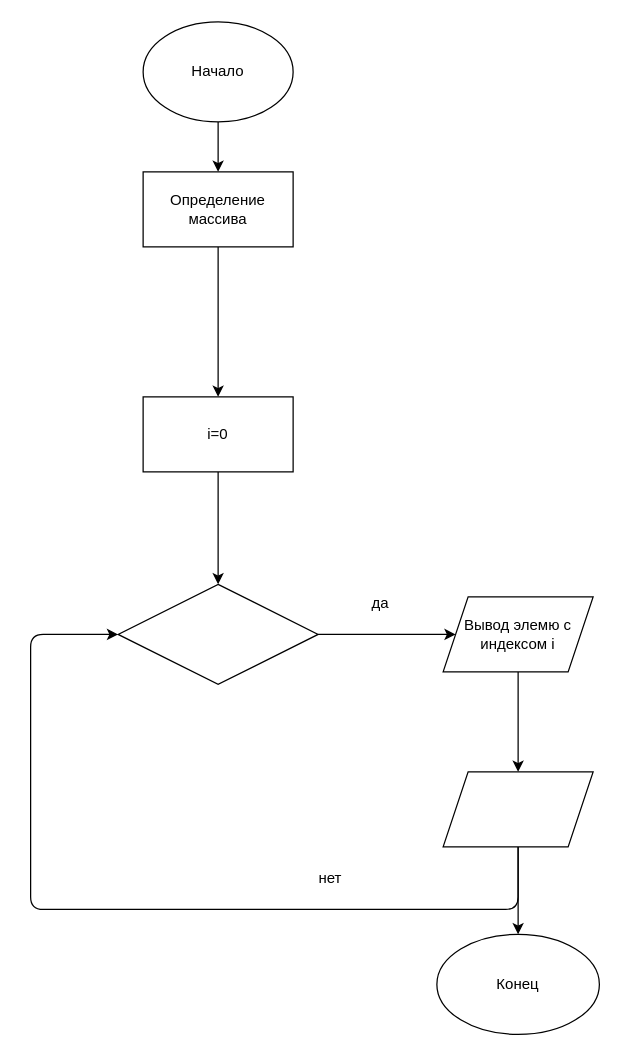
The diagram is 621 pixels wide and 1056 high, and some of its shapes have lost their labels. The centre of each missing label's shape, as x and y in pixels:
i<длинна массива?: the point at 217,633
i=i+1: the point at 517,809
